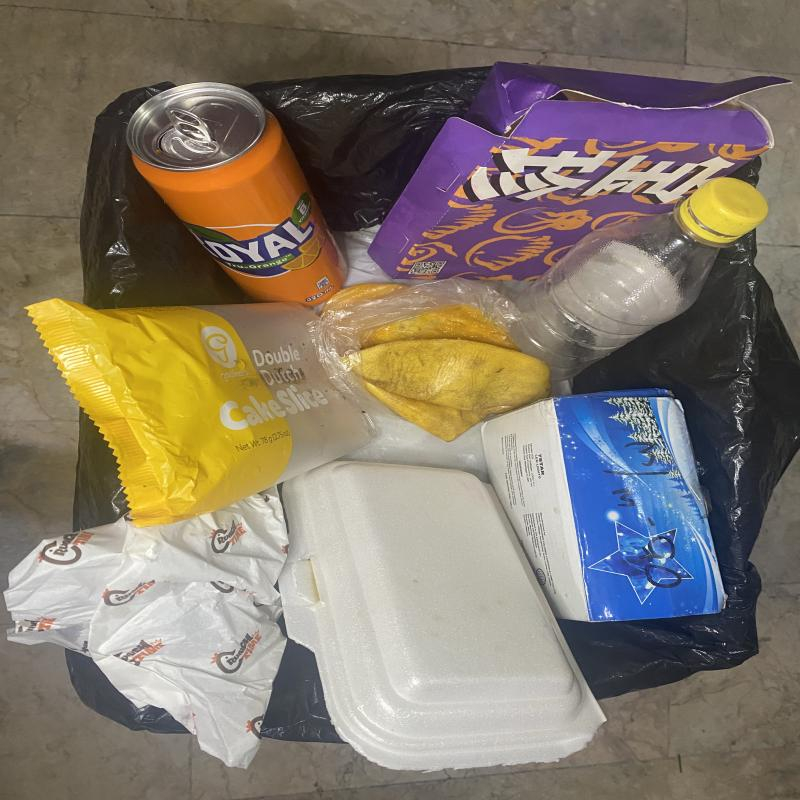aluminum: (126, 83, 348, 307)
cardboard: (367, 62, 789, 282), (481, 389, 727, 624)
food wrapper: (26, 299, 372, 528)
fruit peels: (360, 306, 551, 442)
paper: (4, 485, 290, 770)
plastic bottle: (508, 177, 769, 382)
styrofoam containers: (277, 461, 607, 774)
